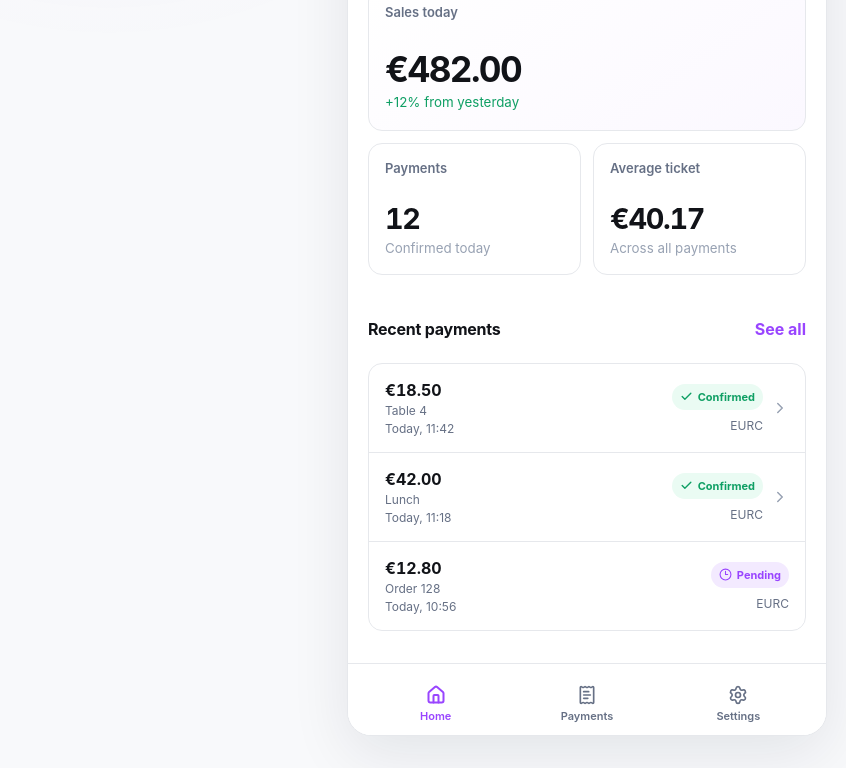
merchant fixture interface › navigates to activity and settings with labelled states
This screenshot has width=846, height=768.
(page scrolled)
Click the button "Payments": (587,704) [511,672,663,735]
(page scrolled)
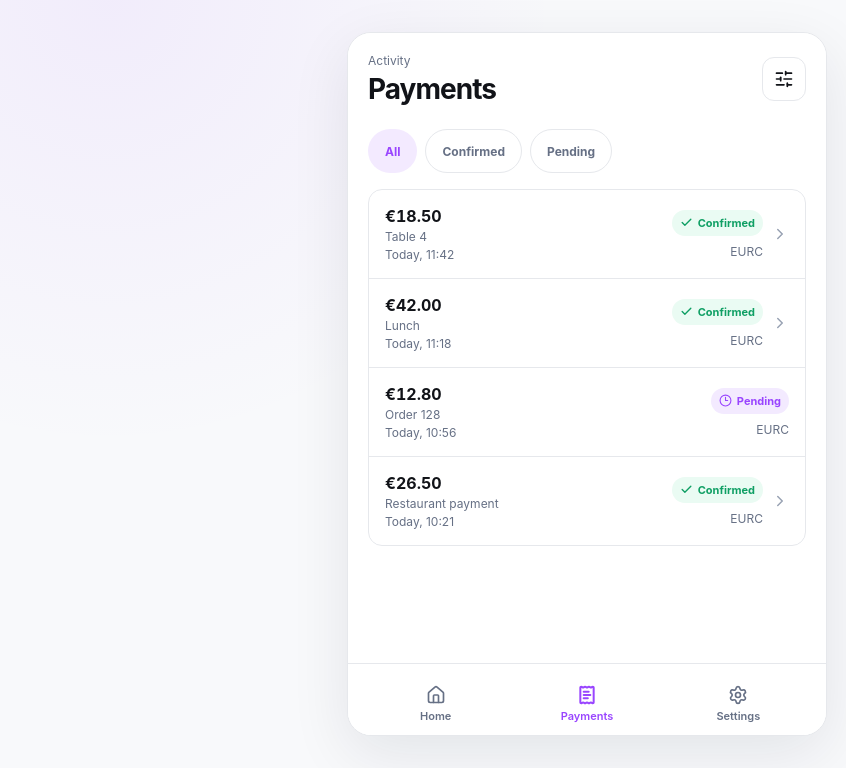
expect the heading "Payments" is shown: met, box [368,74,496,105]
expect the button "Confirmed" is shown: met, box [426,129,522,173]
Click the button "Settings": (738,704) [663,672,814,735]
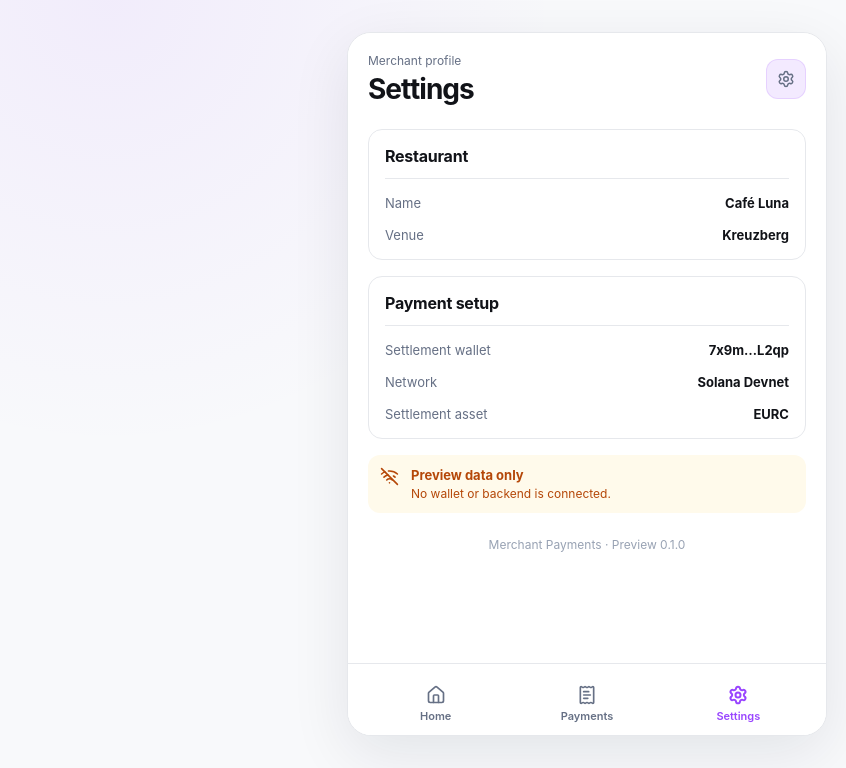
expect the heading "Settings" is shown: met, box [368,74,474,105]
expect the text "No wallet or backend is connected." is shown: met, box [411,486,611,501]
